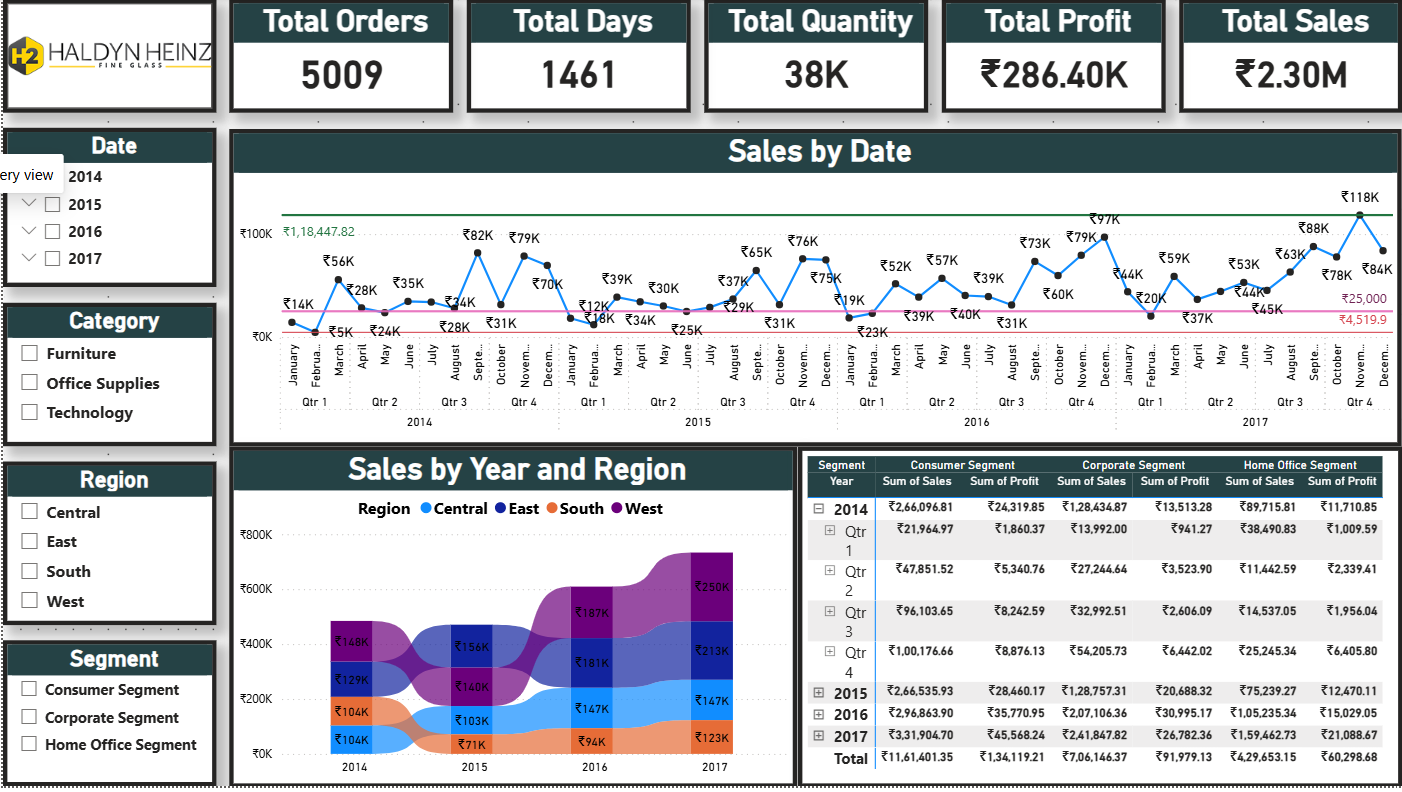

What the dashboard file says about the page in this screenshot:
{"tool":"powerbi","page":{"name":"Time Series Analysis","canvas":[1280,720],"ordinal":3},"visuals":[{"type":"image","box":[0,0,195.4,104],"z":0},{"type":"cardVisual","title":"Total Sales","fields":{"Data":["Sum(Orders.Sales)"]},"box":[1075,0,205,104.3],"z":1000},{"type":"cardVisual","title":"Total Quantity","fields":{"Data":["Sum(Orders.Quantity)"]},"box":[641.1,0,205,104.3],"z":2000},{"type":"cardVisual","title":"Total Days","fields":{"Data":["CountNonNull(Orders.Order Date.Variation.Date Hierarchy.Day)"]},"box":[424.2,0,205,104.3],"z":3000},{"type":"cardVisual","title":"Total Orders","fields":{"Data":["Count(Orders.Order ID)"]},"box":[207.3,0,205,104.3],"z":4000},{"type":"cardVisual","title":"Total Profit","fields":{"Data":["Sum(Orders.Profit)"]},"box":[858,0,205,104.3],"z":5000},{"type":"slicer","title":"Date","fields":{"Values":["Orders.Order Date.Variation.Date Hierarchy.Year","Orders.Order Date.Variation.Date Hierarchy.Quarter","Orders.Order Date.Variation.Date Hierarchy.Month","Orders.Order Date.Variation.Date Hierarchy.Day"]},"box":[0,118,195.6,145.8],"z":6000},{"type":"slicer","title":"Category","fields":{"Values":["Orders.Category"]},"box":[0,277.8,195.6,131.6],"z":7000},{"type":"slicer","title":"Region","fields":{"Values":["Orders.Region"]},"box":[0,423.3,195.6,149.3],"z":8000},{"type":"slicer","title":"Segment","fields":{"Values":["Orders.Segment"]},"box":[0,586.1,195.6,133.9],"z":9000},{"type":"lineChart","title":"Sales by Date","fields":{"Category":["Orders.Order Date.Variation.Date Hierarchy.Year","Orders.Order Date.Variation.Date Hierarchy.Quarter","Orders.Order Date.Variation.Date Hierarchy.Month","Orders.Order Date.Variation.Date Hierarchy.Day"],"Y":["Sum(Orders.Sales)"]},"box":[207.4,118.5,1072.6,290.4],"z":10000},{"type":"ribbonChart","title":"Sales by Year and Region","fields":{"Category":["Orders.Order Date.Variation.Date Hierarchy.Year"],"Y":["Sum(Orders.Sales)"],"Series":["Orders.Region"]},"box":[207.4,408.9,519.1,311.7],"z":11000},{"type":"pivotTable","fields":{"Rows":["Orders.Order Date.Variation.Date Hierarchy.Year","Orders.Order Date.Variation.Date Hierarchy.Quarter","Orders.Order Date.Variation.Date Hierarchy.Month","Orders.Order Date.Variation.Date Hierarchy.Day"],"Values":["Sum(Orders.Sales)","Sum(Orders.Profit)"],"Columns":["Orders.Segment"]},"box":[726.5,408.9,553.5,311.7],"z":12000}]}

Visuals, with their boxes in screenshot pixels (x1, y1, x2, y2), scaled from the page's 1280x720 canvas onto the 1402x792 screenshot:
image: 0 0 214 114
"Total Sales" cardVisual: 1177 0 1401 115
"Total Quantity" cardVisual: 702 0 927 115
"Total Days" cardVisual: 465 0 689 115
"Total Orders" cardVisual: 227 0 452 115
"Total Profit" cardVisual: 940 0 1164 115
"Date" slicer: 0 130 214 290
"Category" slicer: 0 306 214 450
"Region" slicer: 0 466 214 630
"Segment" slicer: 0 645 214 791
"Sales by Date" lineChart: 227 130 1401 450
"Sales by Year and Region" ribbonChart: 227 450 796 791
pivotTable - Orders.Order Date.Variation.Date Hierarchy.Year x Orders.Order Date.Variation.Date Hierarchy.Quarter: 796 450 1401 791
